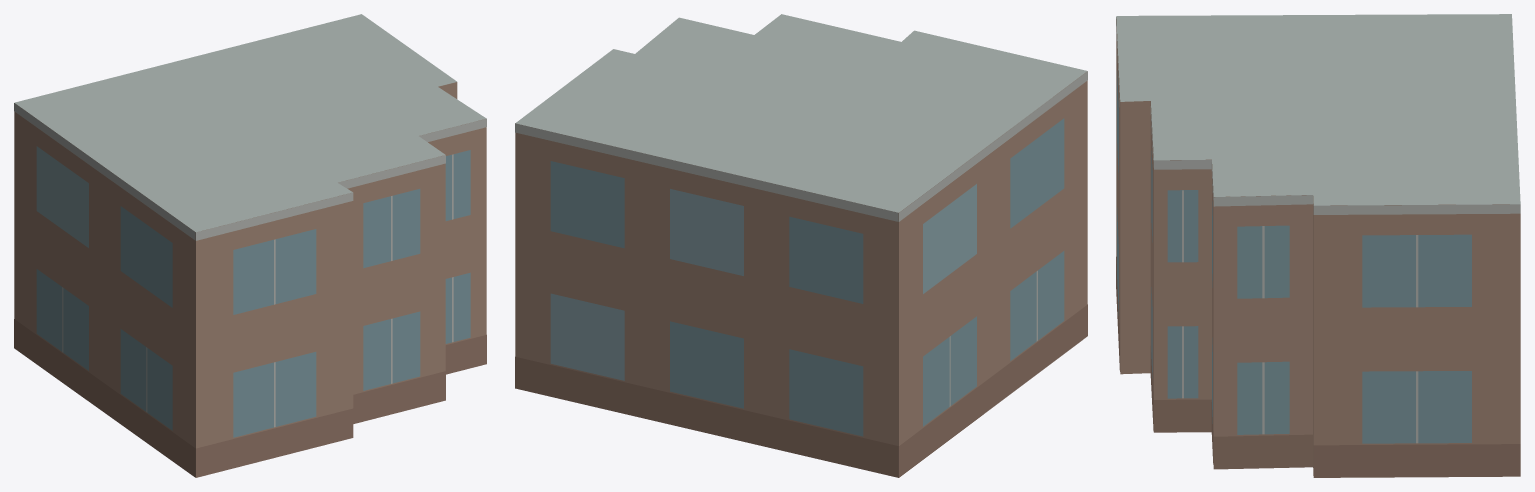
The model's file is survey-upis-32495175.glb.
3 renders of one model, left to right at view 1: azimuth 30°, elevation 25°; view 2: azimuth 150°, elevation 25°; view 3: azimuth 270°, elevation 25°, orthographic. The views are drawn at different scales.
Parts seen in each view (by area): view 1: survey-upis-32495175.tmp; view 2: survey-upis-32495175.tmp; view 3: survey-upis-32495175.tmp.
Part boxes in pixels (x1,y1,x2,y2): survey-upis-32495175.tmp: (14,14,486,477); survey-upis-32495175.tmp: (515,14,1087,477); survey-upis-32495175.tmp: (1116,14,1520,477).
Size of the model in its own units: 10.57 by 7 by 9.43.
